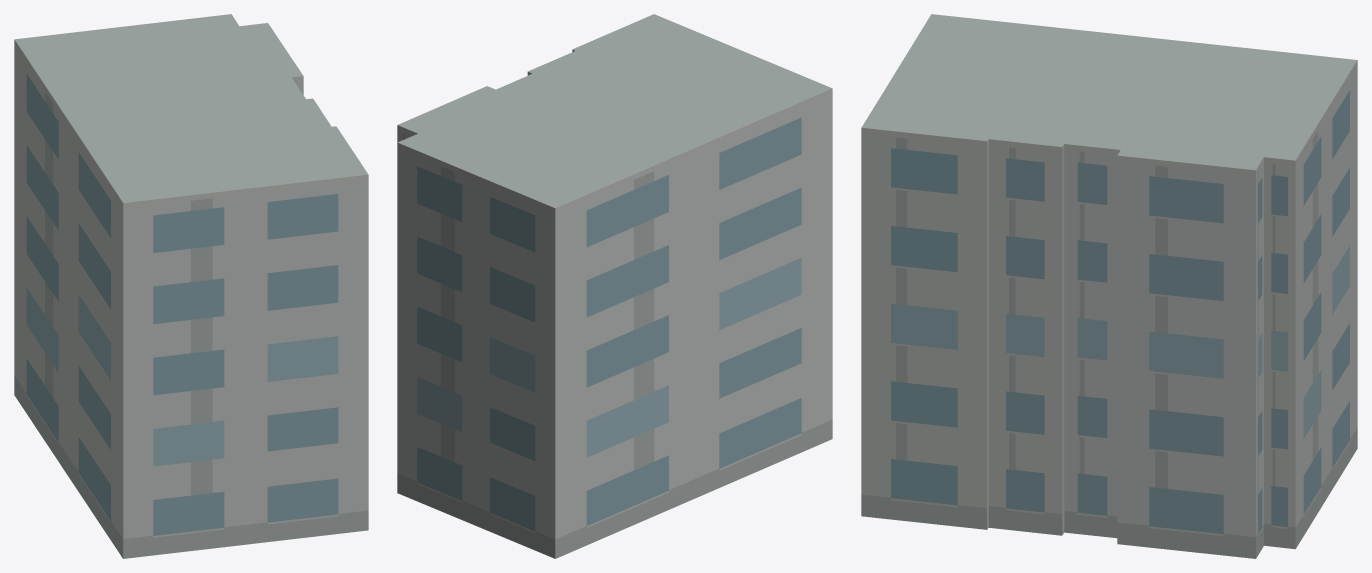
The model's file is survey-upis-32828598.glb.
The picture shows the model from 3 angles, left to right: view 1: azimuth 30°, elevation 25°; view 2: azimuth 150°, elevation 25°; view 3: azimuth 270°, elevation 25°; orthographic projection. The views are drawn at different scales.
Visible parts, largest first — view 1: survey-upis-32828598.tmp; view 2: survey-upis-32828598.tmp; view 3: survey-upis-32828598.tmp.
Part boxes in pixels (box(x1,y1,x2,y2)): survey-upis-32828598.tmp: box(14, 14, 368, 558); survey-upis-32828598.tmp: box(397, 14, 832, 558); survey-upis-32828598.tmp: box(861, 14, 1357, 558).
Size of the model in its own units: 13.64 by 15.8 by 18.29.
